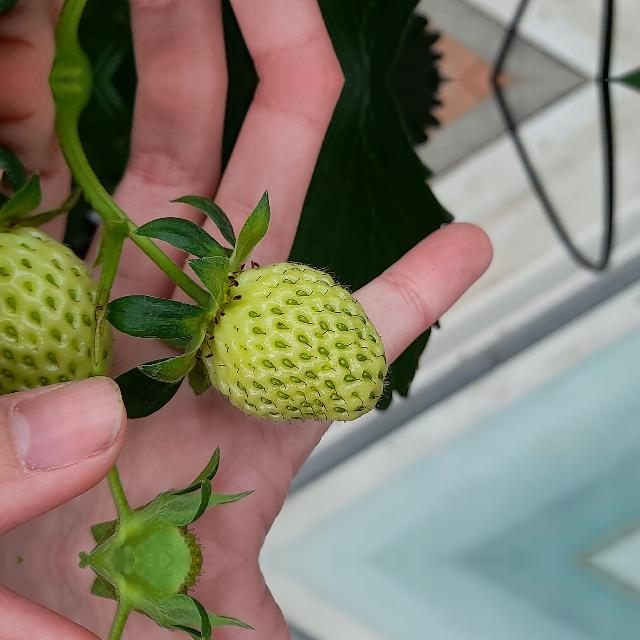Health_25: (200, 262, 386, 422)
